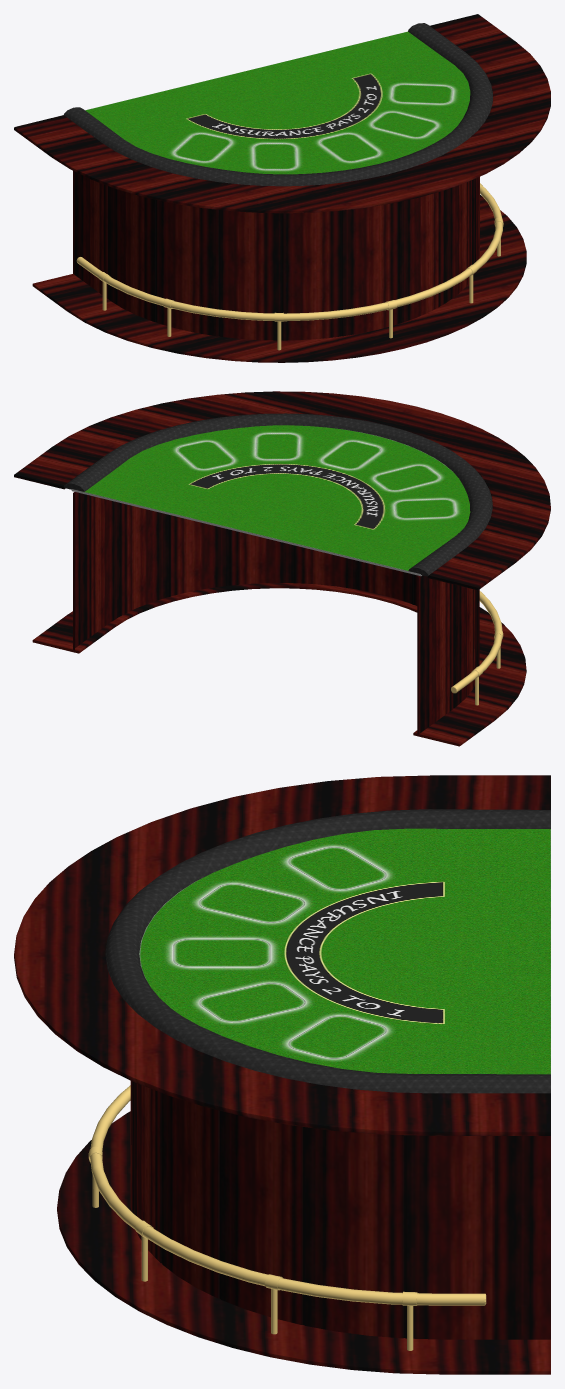
Rendered from blackjack.glb.
3 renders of one model, top to bottom at view 1: azimuth 30°, elevation 25°; view 2: azimuth 150°, elevation 25°; view 3: azimuth 270°, elevation 25°, orthographic. The views are drawn at different scales.
Visible parts, largest first — view 1: Shape001, Rectangle005, Rectangle001, Rectangle006, Rectangle004, Shape002; view 2: Rectangle005, Shape001, Rectangle001, Rectangle004, Rectangle006, Shape002; view 3: Rectangle005, Shape001, Rectangle001, Rectangle006, Rectangle004, Shape002.
Boxes of the visible parts, x1,y1,x2,y2 form: Shape001: [73, 171, 479, 340]; Rectangle005: [85, 31, 470, 174]; Rectangle001: [14, 14, 550, 213]; Rectangle006: [32, 195, 526, 362]; Rectangle004: [64, 23, 492, 186]; Shape002: [76, 184, 502, 321]; Rectangle005: [71, 425, 470, 576]; Shape001: [73, 492, 479, 733]; Rectangle001: [14, 391, 550, 590]; Rectangle004: [64, 413, 492, 576]; Rectangle006: [32, 583, 526, 746]; Shape002: [451, 591, 502, 693]; Rectangle005: [139, 828, 550, 1074]; Shape001: [130, 1081, 550, 1339]; Rectangle001: [14, 775, 550, 1135]; Rectangle006: [57, 1111, 550, 1374]; Rectangle004: [105, 809, 550, 1093]; Shape002: [90, 1085, 486, 1305].
Size of the model in its own units: 2.6 by 0.9027 by 1.65.
Materials: 1 (1 with a texture image).
